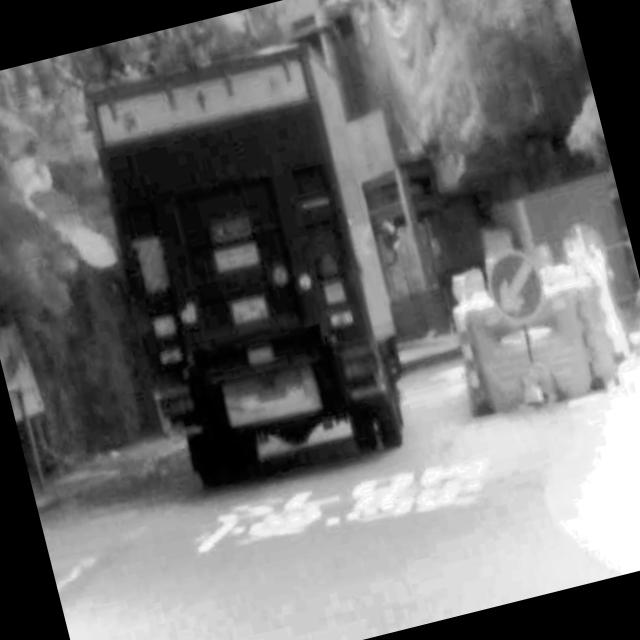Truck: (74, 23, 428, 502)
